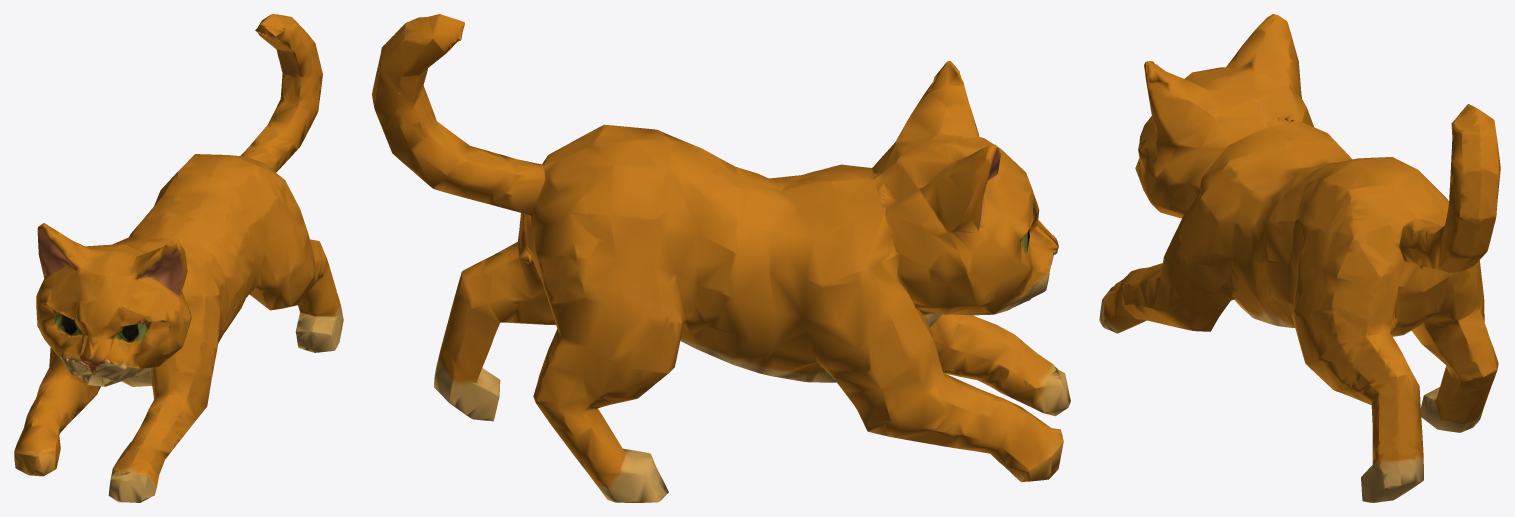
Rendered from kot.glb.
3 views of the same model, side by side, from view 1: azimuth 30°, elevation 25°; view 2: azimuth 150°, elevation 25°; view 3: azimuth 270°, elevation 25° (orthographic). The views are drawn at different scales.
Parts seen in each view (by area): view 1: tripo_node_74f43da6-60f8-4baf-a7c0-f0eff02aa68a; view 2: tripo_node_74f43da6-60f8-4baf-a7c0-f0eff02aa68a; view 3: tripo_node_74f43da6-60f8-4baf-a7c0-f0eff02aa68a.
Boxes of the visible parts, x1,y1,x2,y2 form: tripo_node_74f43da6-60f8-4baf-a7c0-f0eff02aa68a: [14, 14, 343, 502]; tripo_node_74f43da6-60f8-4baf-a7c0-f0eff02aa68a: [372, 14, 1070, 502]; tripo_node_74f43da6-60f8-4baf-a7c0-f0eff02aa68a: [1099, 14, 1500, 502].
Size of the model in its own units: 0.98 by 0.7582 by 0.7002.
Materials: 1 (1 with a texture image).
